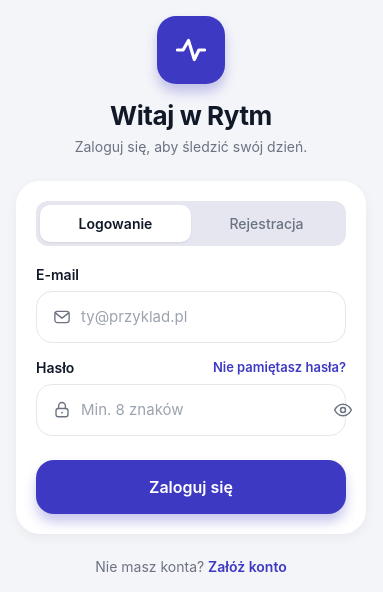
Test case: AuthScreen › switches to registration mode and back
The image size is (383, 592).
// Click registration tab
Step 1. Click the element with test id "tab-register" → (266, 223), box [230,214,304,232]
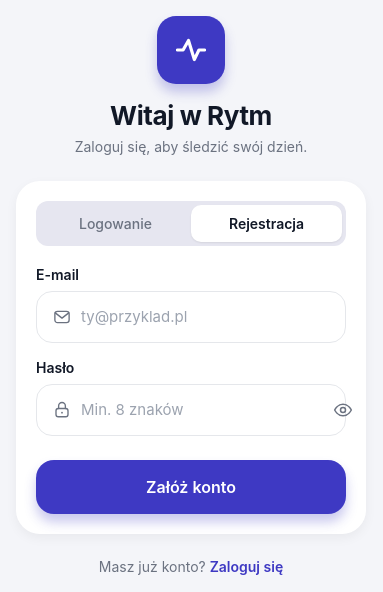
expect the text "Załóż konto" is shown: met, box [146,476,236,496]
expect the text "Nie pamiętasz hasła?" is gone: met
expect the text "Masz już konto? " is shown: met, box [99,558,210,574]
// Click switch back to login
Step 2. Click the element with test id "switch-to-login" → (246, 566), box [210,558,283,574]
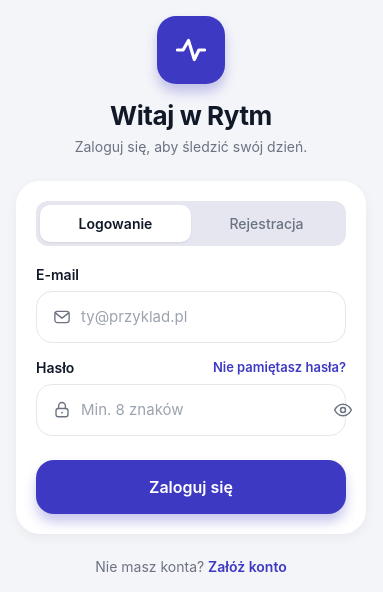
expect the text "Zaloguj się" is shown: met, box [149,476,233,496]
expect the text "Nie pamiętasz hasła?" is shown: met, box [213,359,346,375]
